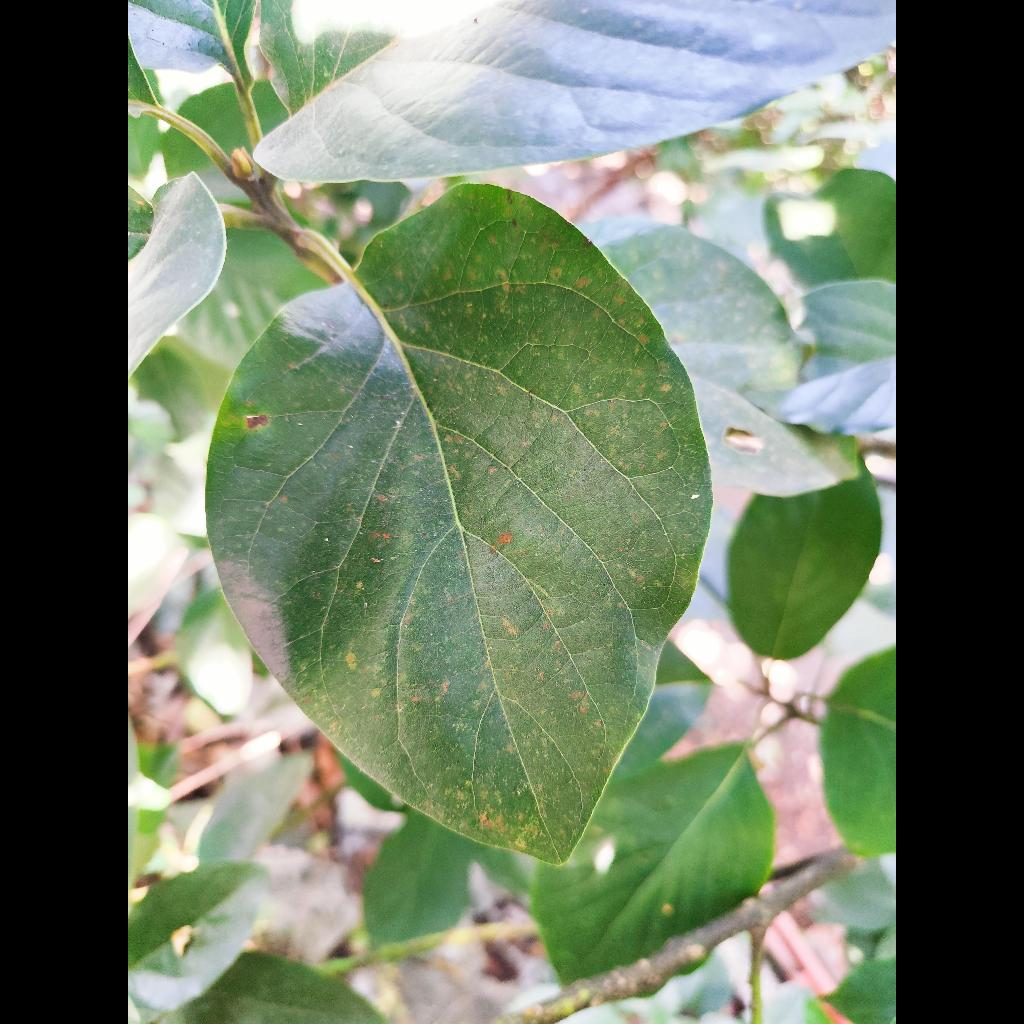Anthracnose: (208, 185, 711, 863)
